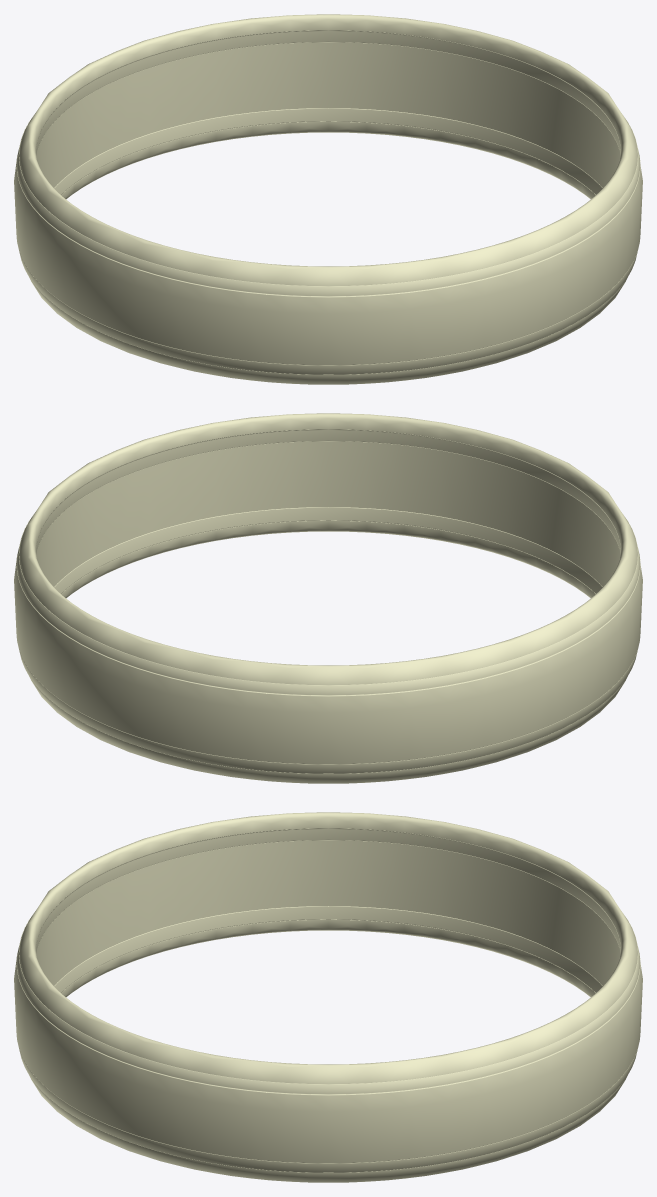
The model's file is Ring.dae.
3 renders of one model, top to bottom at view 1: azimuth 30°, elevation 25°; view 2: azimuth 150°, elevation 25°; view 3: azimuth 270°, elevation 25°, orthographic.
Visible parts, largest first — view 1: Ring; view 2: Ring; view 3: Ring.
Boxes of the visible parts, <box> form: Ring: <box>14,14,642,384</box>; Ring: <box>14,413,642,783</box>; Ring: <box>14,812,642,1182</box>.
Bounding box in the file's own units: 121 × 121 × 24.94.
